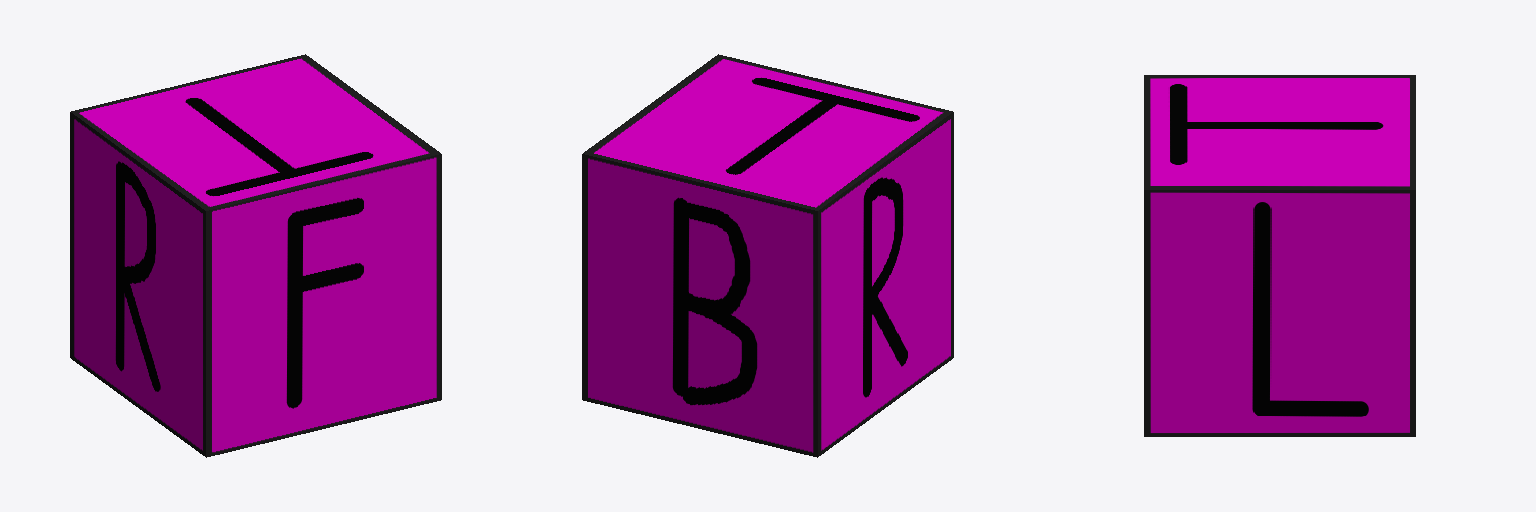
3 views of the same model, side by side, from view 1: azimuth 30°, elevation 25°; view 2: azimuth 150°, elevation 25°; view 3: azimuth 270°, elevation 25° (orthographic).
Visible parts, largest first — view 1: Cube; view 2: Cube; view 3: Cube.
Boxes of the visible parts, box(x1,y1,x2,y2) form: Cube: box(70, 54, 441, 457); Cube: box(582, 54, 953, 457); Cube: box(1144, 75, 1415, 436).
Bounding box in the file's own units: 1.14 × 1.14 × 1.14.
Materials: 1 (1 with a texture image).